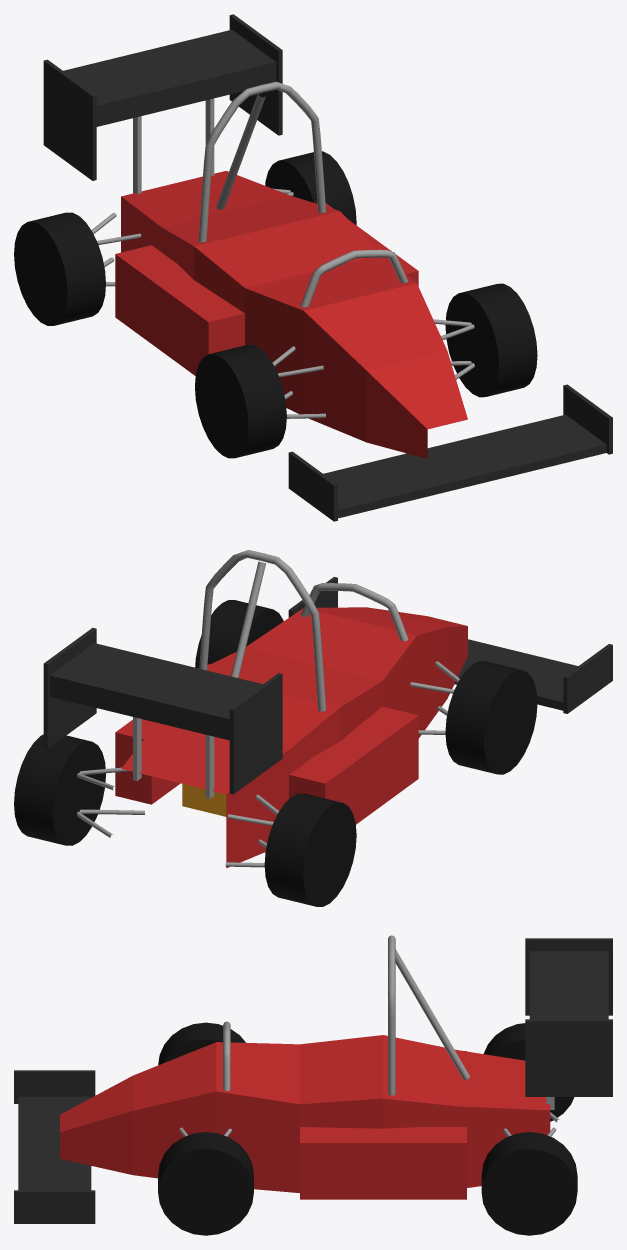
File: car.glb
3 views of the same model, one above another, from view 1: azimuth 30°, elevation 25°; view 2: azimuth 150°, elevation 25°; view 3: azimuth 270°, elevation 25° (orthographic). The views are drawn at different scales.
Visible parts, largest first — view 1: body, front-wing, rear-wing, sidepod-right, wheel-rear-right, wheel-front-right, wheel-front-left, rear-wing-endplate-right, wheel-rear-left, main-hoop, rear-wing-endplate-left, front-wing-endplate-right (+4 smaller); view 2: body, rear-wing, sidepod-right, wheel-front-right, wheel-rear-right, wheel-rear-left, rear-wing-endplate-right, front-wing, main-hoop, rear-wing-endplate-left, wheel-front-left, sidepod-left (+8 smaller); view 3: body, sidepod-left, wheel-rear-left, wheel-front-left, rear-wing-endplate-left, rear-wing, front-wing, front-wing-endplate-left, front-wing-endplate-right, rear-wing-endplate-right, wheel-front-right, wheel-rear-right (+3 smaller).
Part boxes in pixels (left/top/right/bottom): body: left=121, top=171, right=467, bottom=458; front-wing: left=323, top=414, right=606, bottom=518; rear-wing: left=63, top=29, right=276, bottom=126; sidepod-right: left=115, top=245, right=244, bottom=375; wheel-rear-right: left=14, top=212, right=105, bottom=325; wheel-front-right: left=195, top=345, right=286, bottom=458; wheel-front-left: left=445, top=283, right=537, bottom=397; rear-wing-endplate-right: left=43, top=59, right=96, bottom=180; wheel-rear-left: left=265, top=151, right=356, bottom=225; main-hoop: left=198, top=81, right=326, bottom=242; rear-wing-endplate-left: left=229, top=14, right=282, bottom=135; front-wing-endplate-right: left=288, top=451, right=337, bottom=521; body: left=121, top=607, right=467, bottom=868; rear-wing: left=50, top=643, right=262, bottom=740; sidepod-right: left=289, top=706, right=418, bottom=824; wheel-front-right: left=445, top=661, right=537, bottom=774; wheel-rear-right: left=264, top=793, right=356, bottom=906; wheel-rear-left: left=14, top=734, right=105, bottom=845; rear-wing-endplate-right: left=229, top=673, right=282, bottom=794; front-wing: left=335, top=607, right=577, bottom=710; main-hoop: left=199, top=550, right=326, bottom=711; rear-wing-endplate-left: left=43, top=627, right=96, bottom=748; wheel-front-left: left=195, top=600, right=283, bottom=668; sidepod-left: left=115, top=664, right=209, bottom=804; body: left=60, top=1035, right=550, bottom=1193; sidepod-left: left=300, top=1127, right=466, bottom=1199; wheel-rear-left: left=481, top=1132, right=577, bottom=1235; wheel-front-left: left=158, top=1132, right=253, bottom=1235; rear-wing-endplate-left: left=525, top=1019, right=612, bottom=1096; rear-wing: left=529, top=951, right=608, bottom=1019; front-wing: left=18, top=1096, right=91, bottom=1190; front-wing-endplate-left: left=14, top=1190, right=95, bottom=1223; front-wing-endplate-right: left=14, top=1070, right=95, bottom=1103; rear-wing-endplate-right: left=525, top=938, right=612, bottom=1015; wheel-front-right: left=158, top=1022, right=245, bottom=1065; wheel-rear-right: left=483, top=1023, right=574, bottom=1121.
Bounding box in the file's own units: 1.43 × 1.22 × 2.87.
